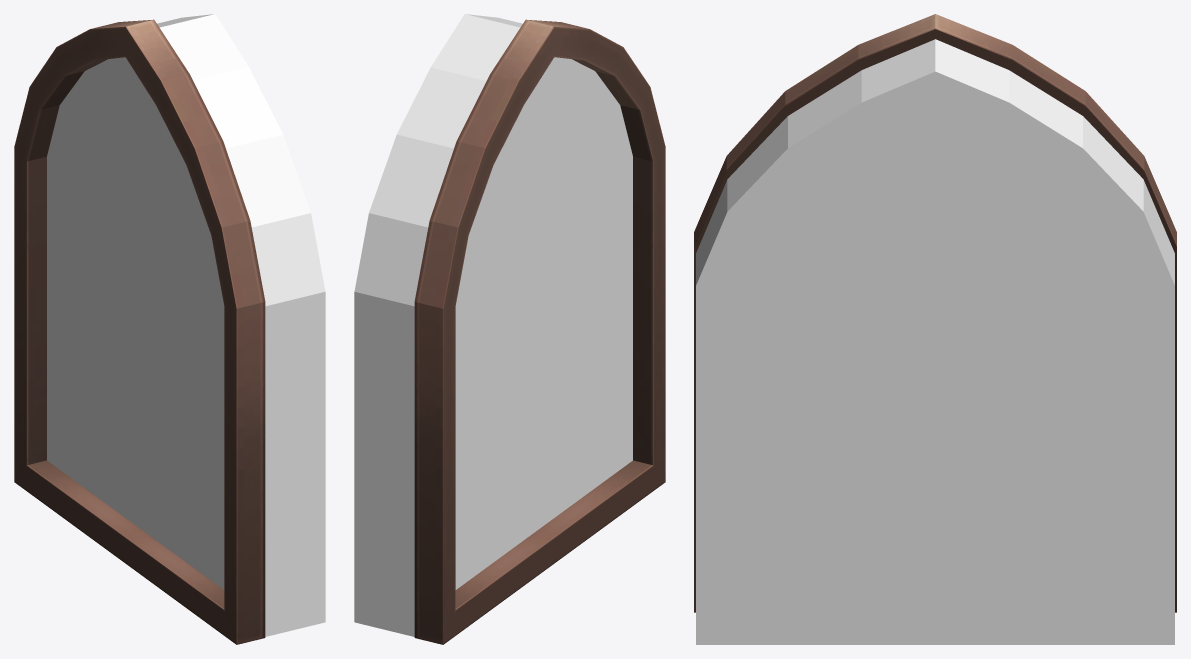
File: my_wildhunt_01_window_02.glb
3 views of the same model, side by side, from view 1: azimuth 30°, elevation 25°; view 2: azimuth 150°, elevation 25°; view 3: azimuth 270°, elevation 25° (orthographic). The views are drawn at different scales.
Parts seen in each view (by area): view 1: my_wildhunt_01_window_02_hole, my_wildhunt_01_window_02, my_wildhunt_01_window_02_cover; view 2: my_wildhunt_01_window_02_hole, my_wildhunt_01_window_02, my_wildhunt_01_window_02_cover; view 3: my_wildhunt_01_window_02_cover, my_wildhunt_01_window_02.
Boxes of the visible parts, <box> form: my_wildhunt_01_window_02_hole: <box>47,57,224,589</box>; my_wildhunt_01_window_02: <box>14,19,265,644</box>; my_wildhunt_01_window_02_cover: <box>157,14,325,636</box>; my_wildhunt_01_window_02_hole: <box>455,57,632,589</box>; my_wildhunt_01_window_02: <box>414,19,665,644</box>; my_wildhunt_01_window_02_cover: <box>354,14,522,636</box>; my_wildhunt_01_window_02_cover: <box>696,39,1174,644</box>; my_wildhunt_01_window_02: <box>694,14,1176,612</box>.
Bounding box in the file's own units: 0.00256 × 0.0146 × 0.011.
4 materials, 2 textured.
